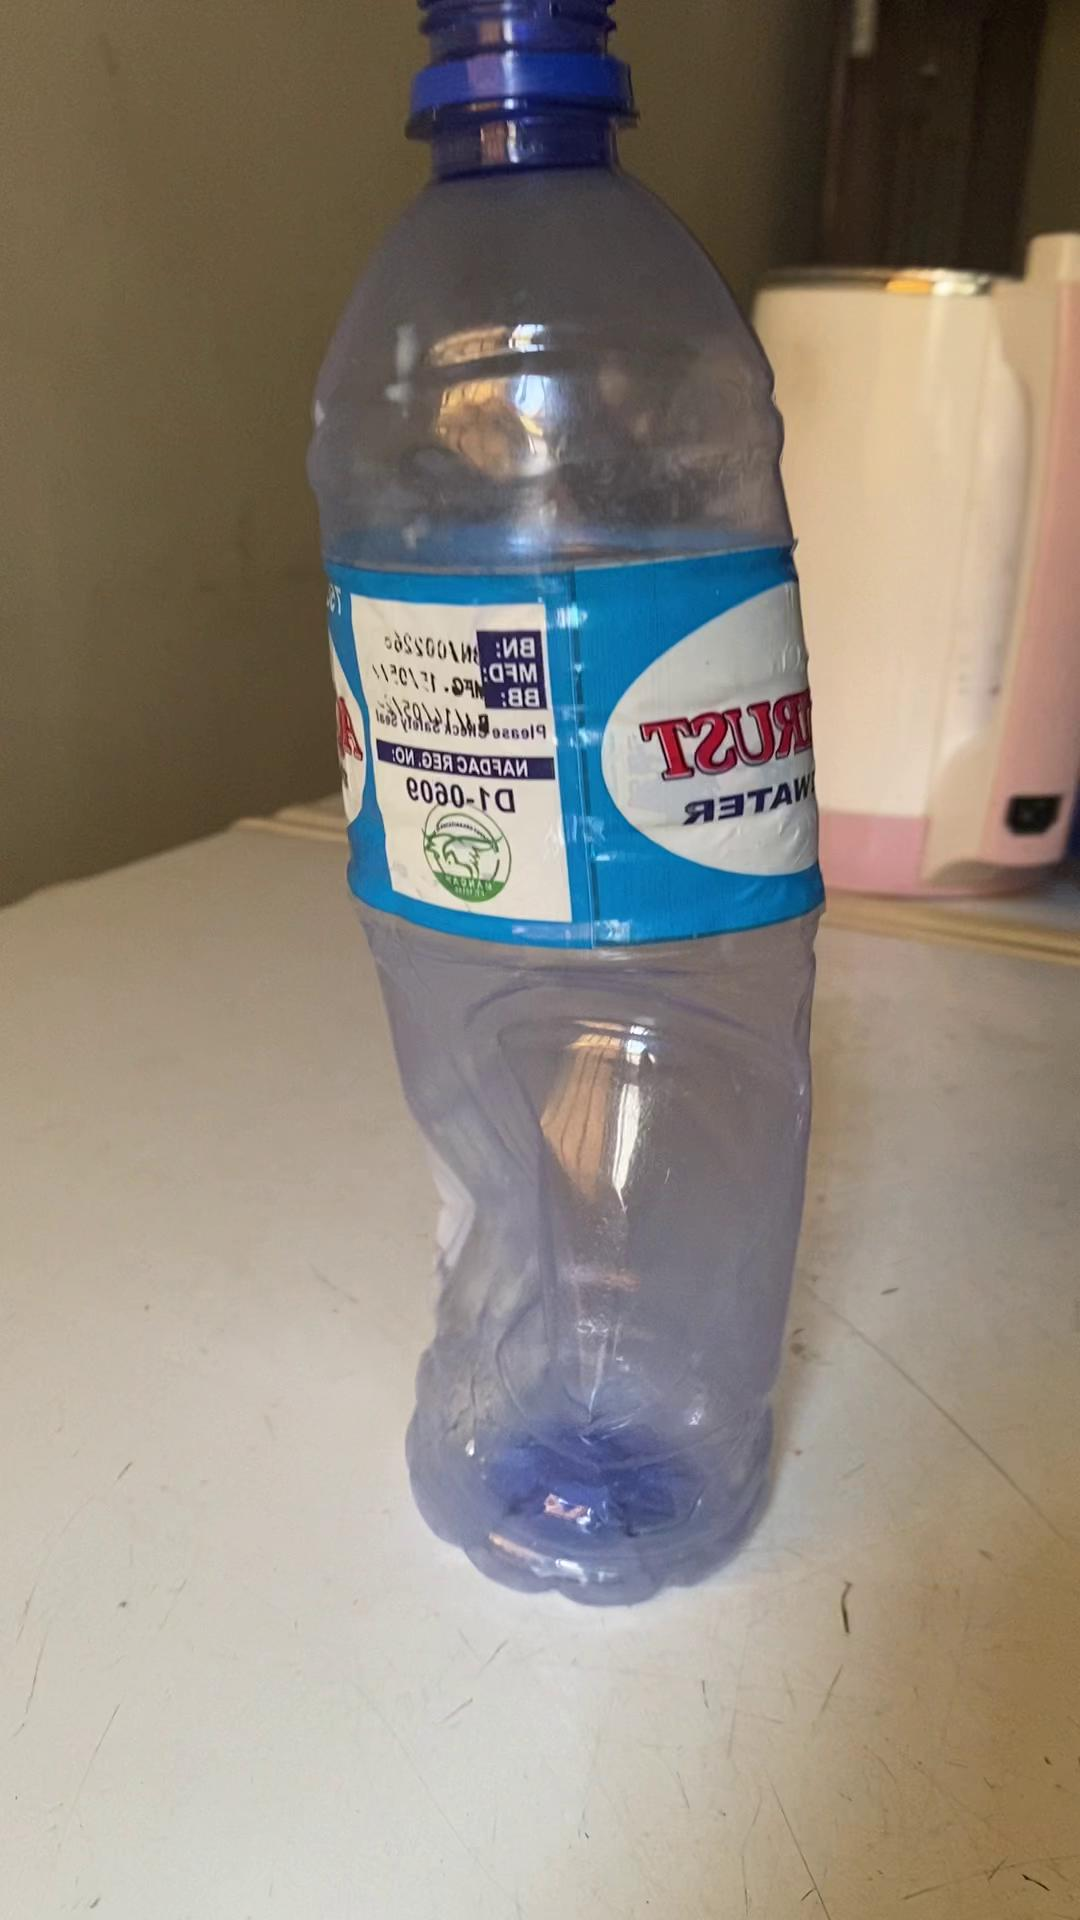crumbled: (301, 7, 833, 1617)
label: (334, 564, 831, 947)
no-cap: (400, 0, 636, 104)
